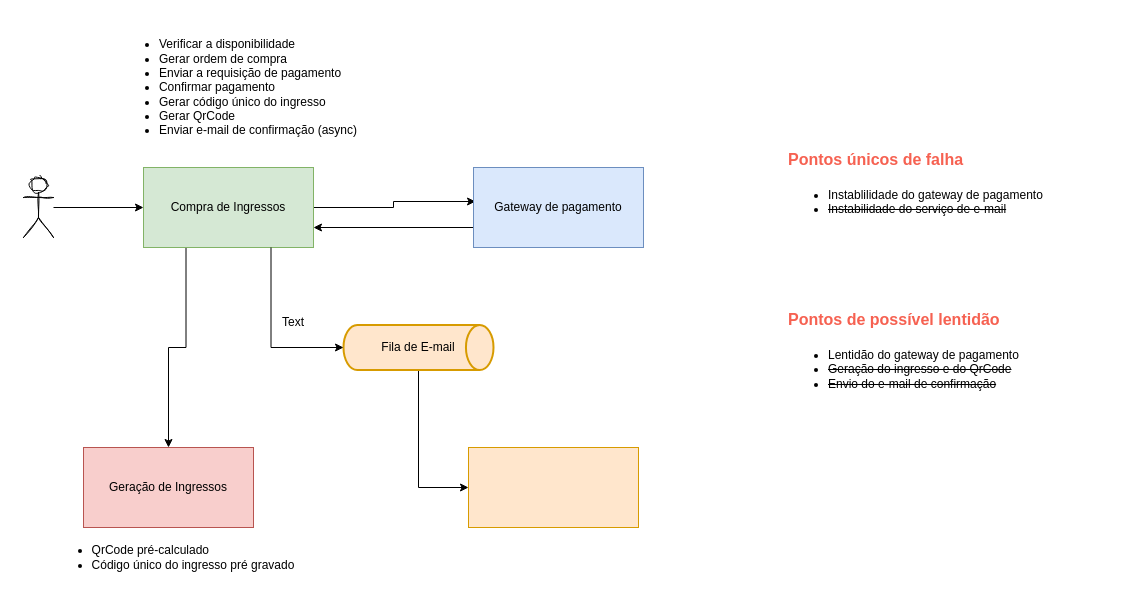
This 1141x601 diagram has some shape labels left out. Here are the shapes that lost their labels. From the top down, the box of each, then its label:
(22, 176, 54, 238): Clientes
(468, 446, 638, 528): Serviço de email
